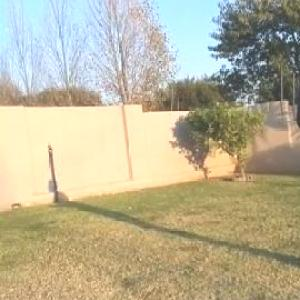follow: (291, 15, 299, 288)
